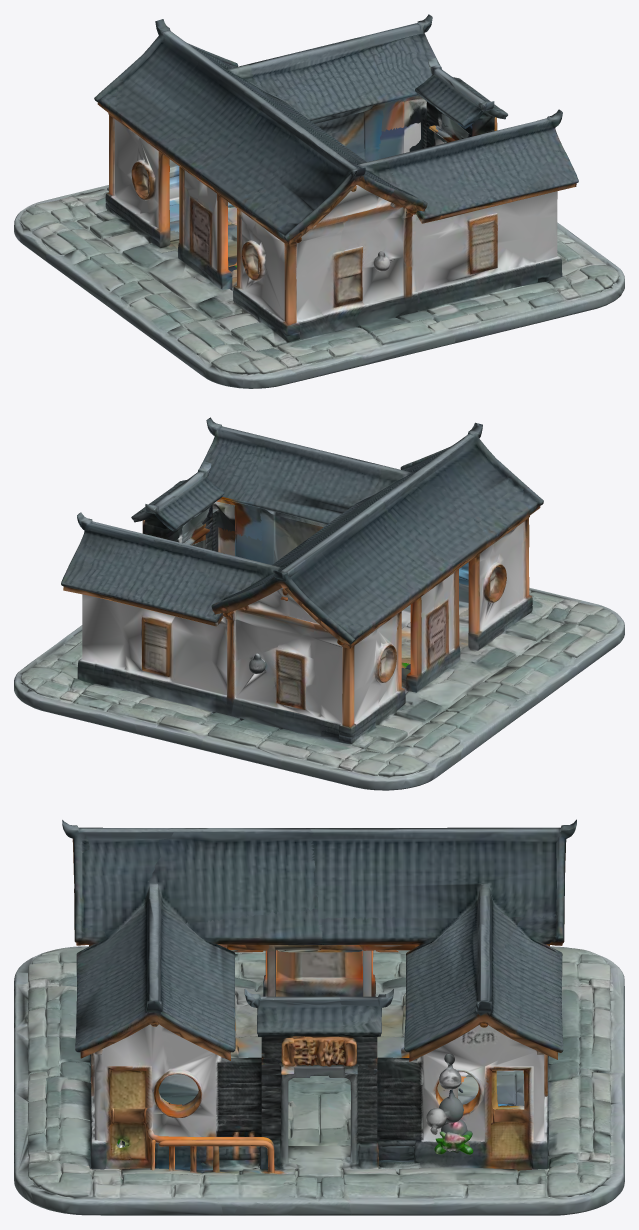
Rendered from granary-a.glb.
3 renders of one model, top to bottom at view 1: azimuth 30°, elevation 25°; view 2: azimuth 150°, elevation 25°; view 3: azimuth 270°, elevation 25°, orthographic. The views are drawn at different scales.
Parts seen in each view (by area): view 1: tripo_node_175f9718-fdad-4ee3-9bdc-924048f6537d; view 2: tripo_node_175f9718-fdad-4ee3-9bdc-924048f6537d; view 3: tripo_node_175f9718-fdad-4ee3-9bdc-924048f6537d.
Boxes of the visible parts, x1,y1,x2,y2 form: tripo_node_175f9718-fdad-4ee3-9bdc-924048f6537d: (14, 14, 624, 388); tripo_node_175f9718-fdad-4ee3-9bdc-924048f6537d: (14, 417, 624, 790); tripo_node_175f9718-fdad-4ee3-9bdc-924048f6537d: (14, 819, 624, 1215).
Size of the model in its own units: 0.9998 by 0.4336 by 0.9999.
Materials: 1 (1 with a texture image).
